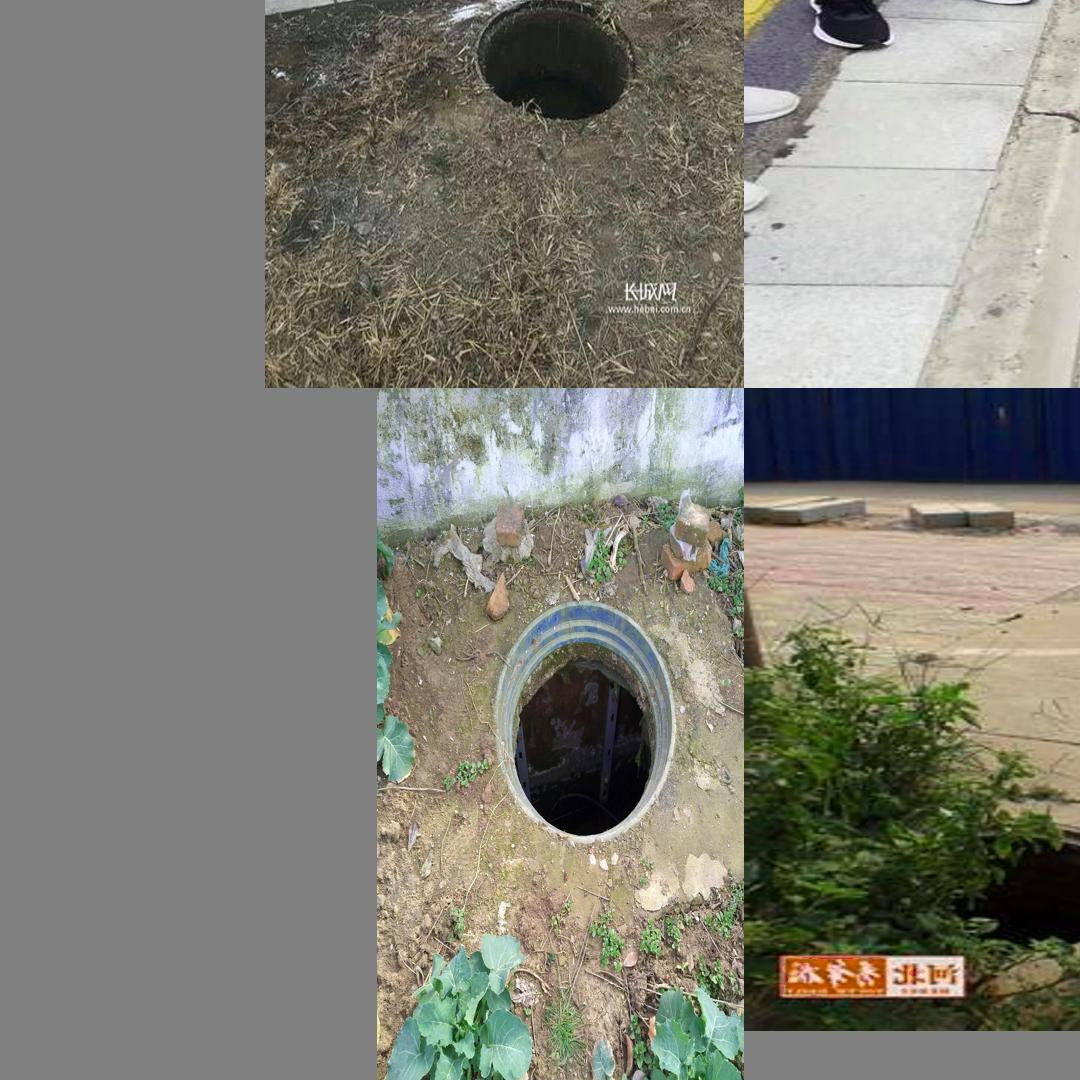lose: (809, 795, 1080, 992), (494, 600, 674, 841), (446, 0, 652, 142)
